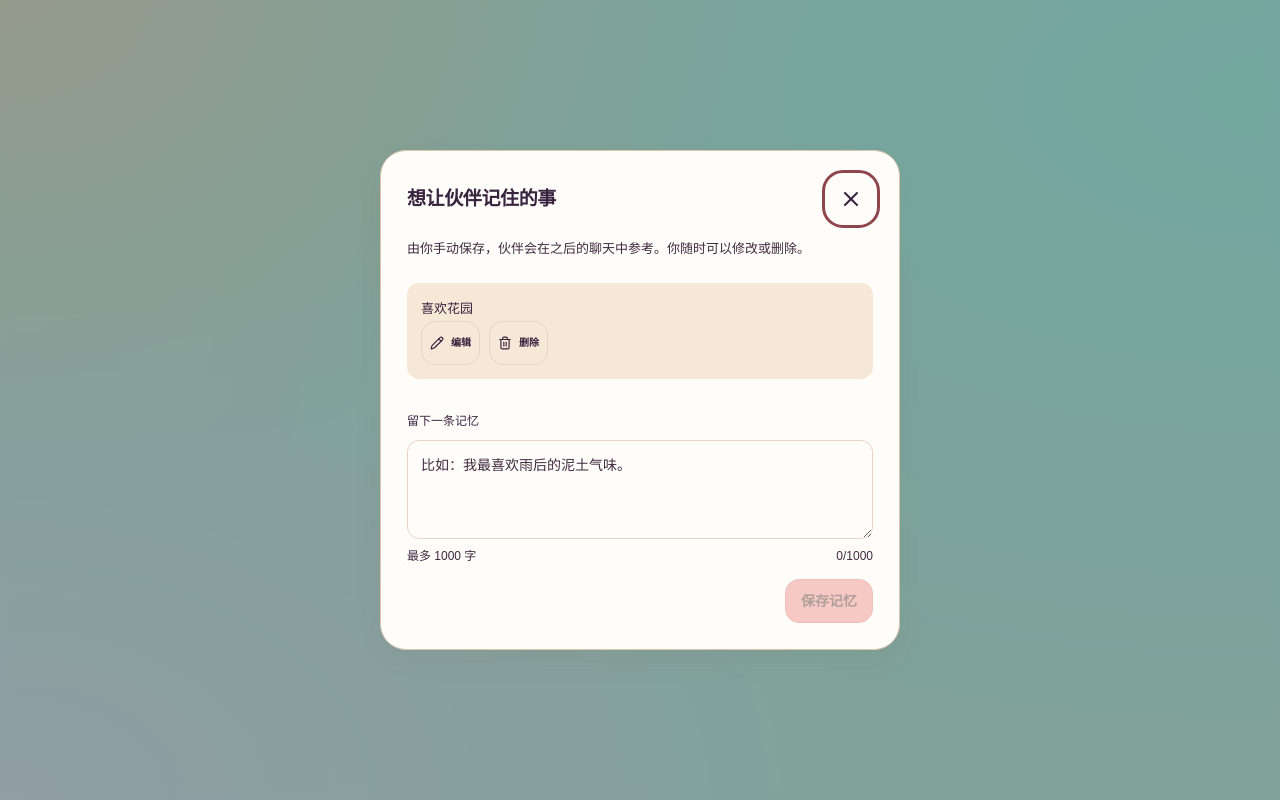
Test: deletes the selected memory only after explicit confirmation
Click the button with aria-label "删除记忆：喜欢花园": (518, 343) [489,321,548,365]
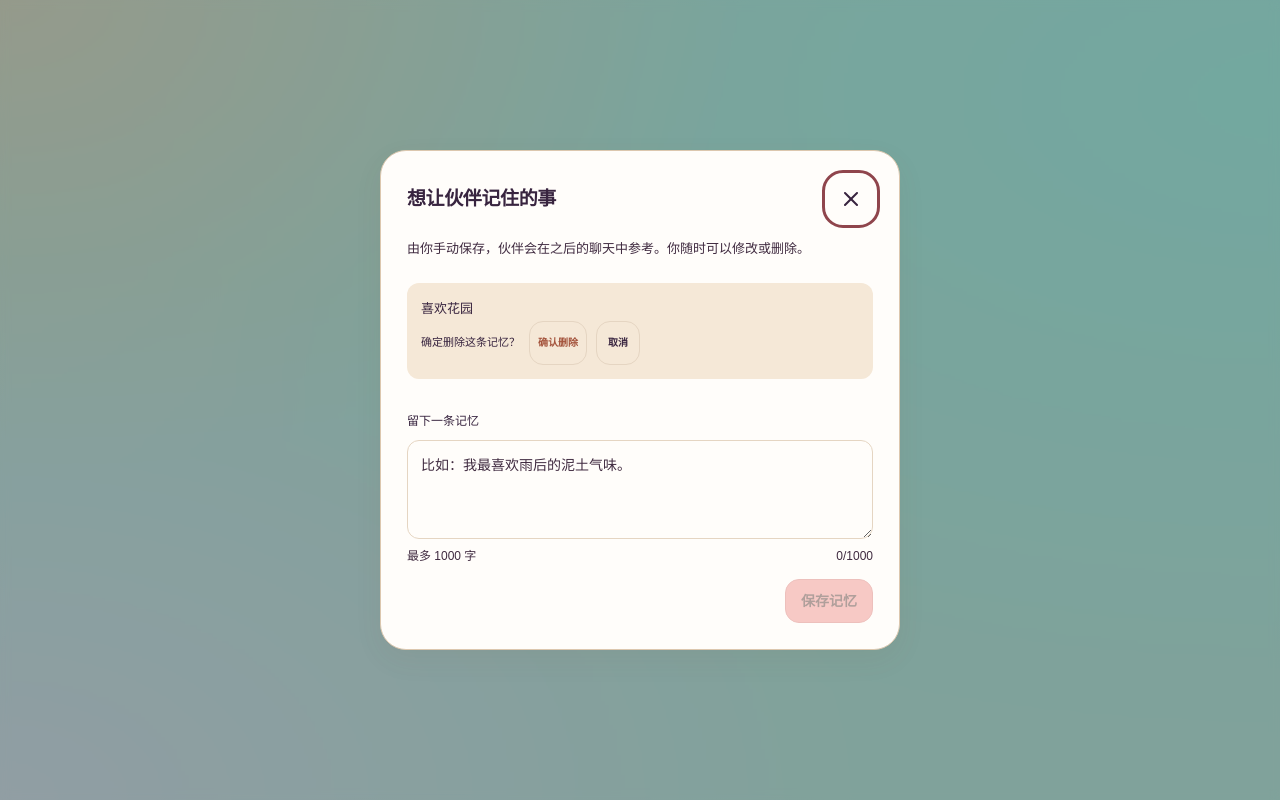
Click the button "确认删除": (558, 343) [529,321,587,365]
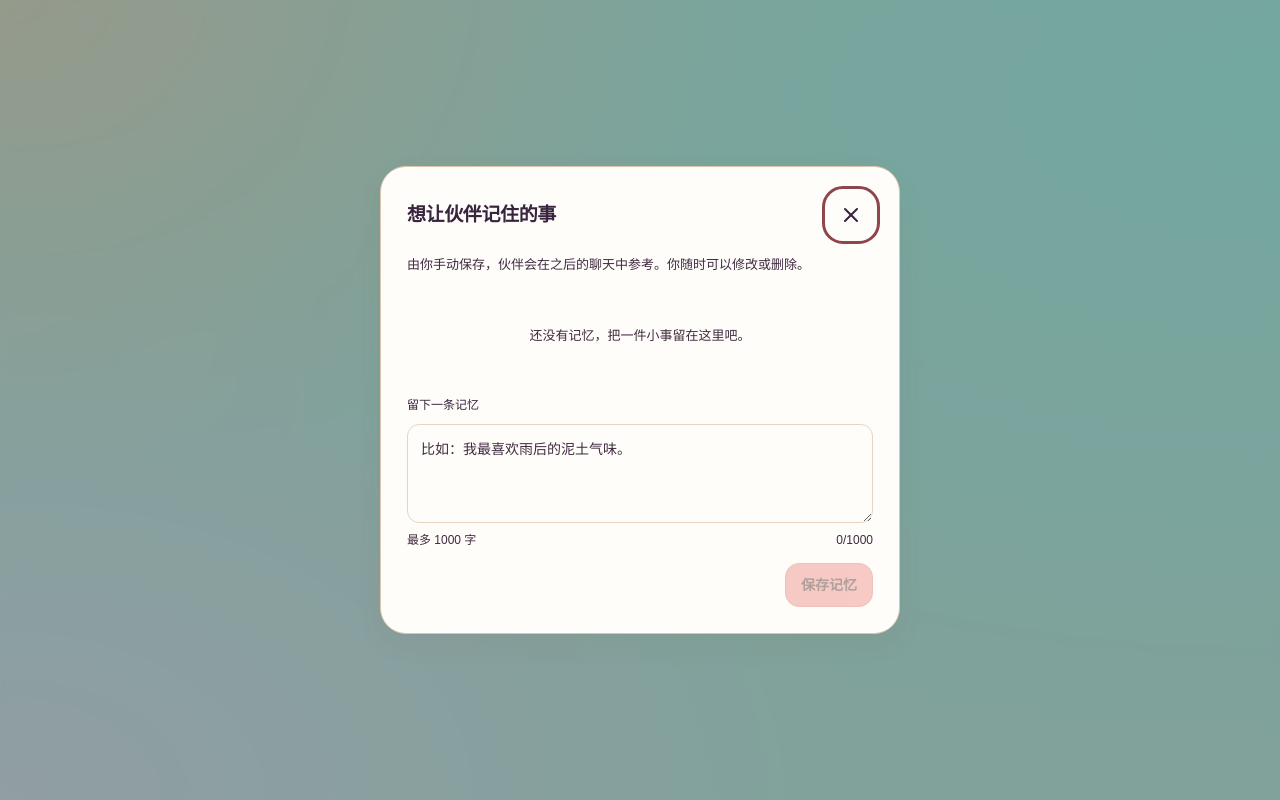
Now the text "还没有记忆，把一件小事留在这里吧。" is shown, box [530,328,750,343]
